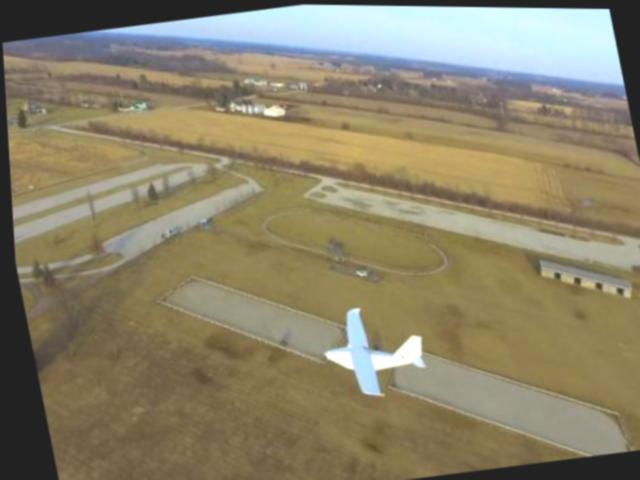uav: (302, 284, 436, 412)
